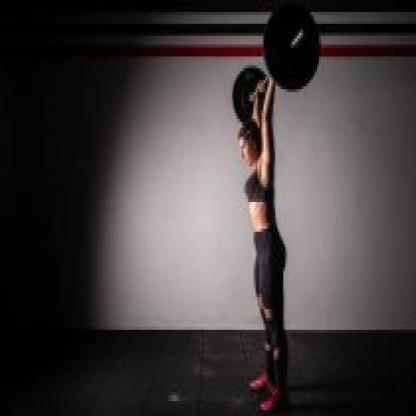Barbell: (300, 25, 312, 43)
